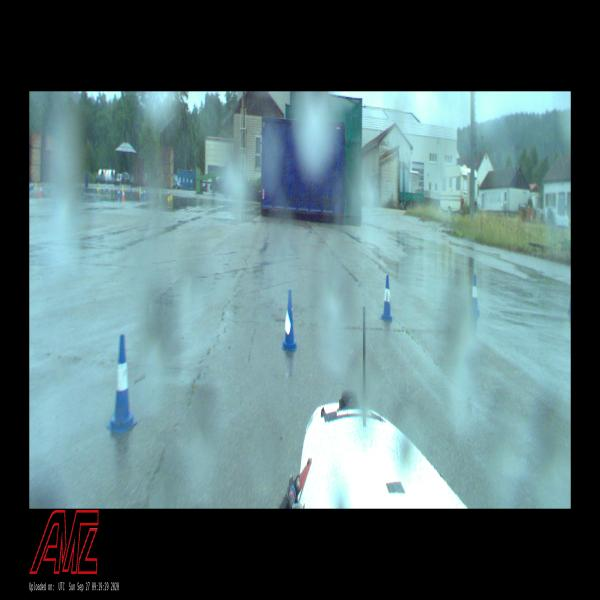blue_cone: (107, 336, 137, 432), (282, 289, 298, 351), (380, 275, 392, 321), (470, 274, 480, 315)
orange_cone: (39, 184, 43, 197), (122, 188, 125, 201)
